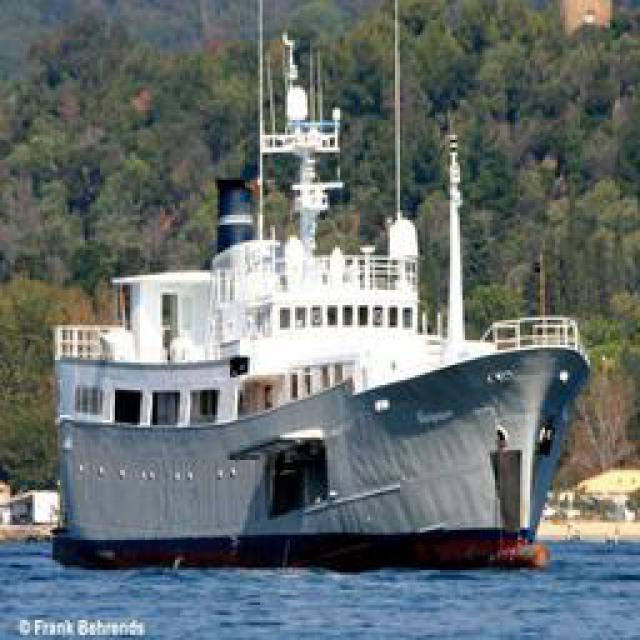Ship: (52, 309, 585, 572)
